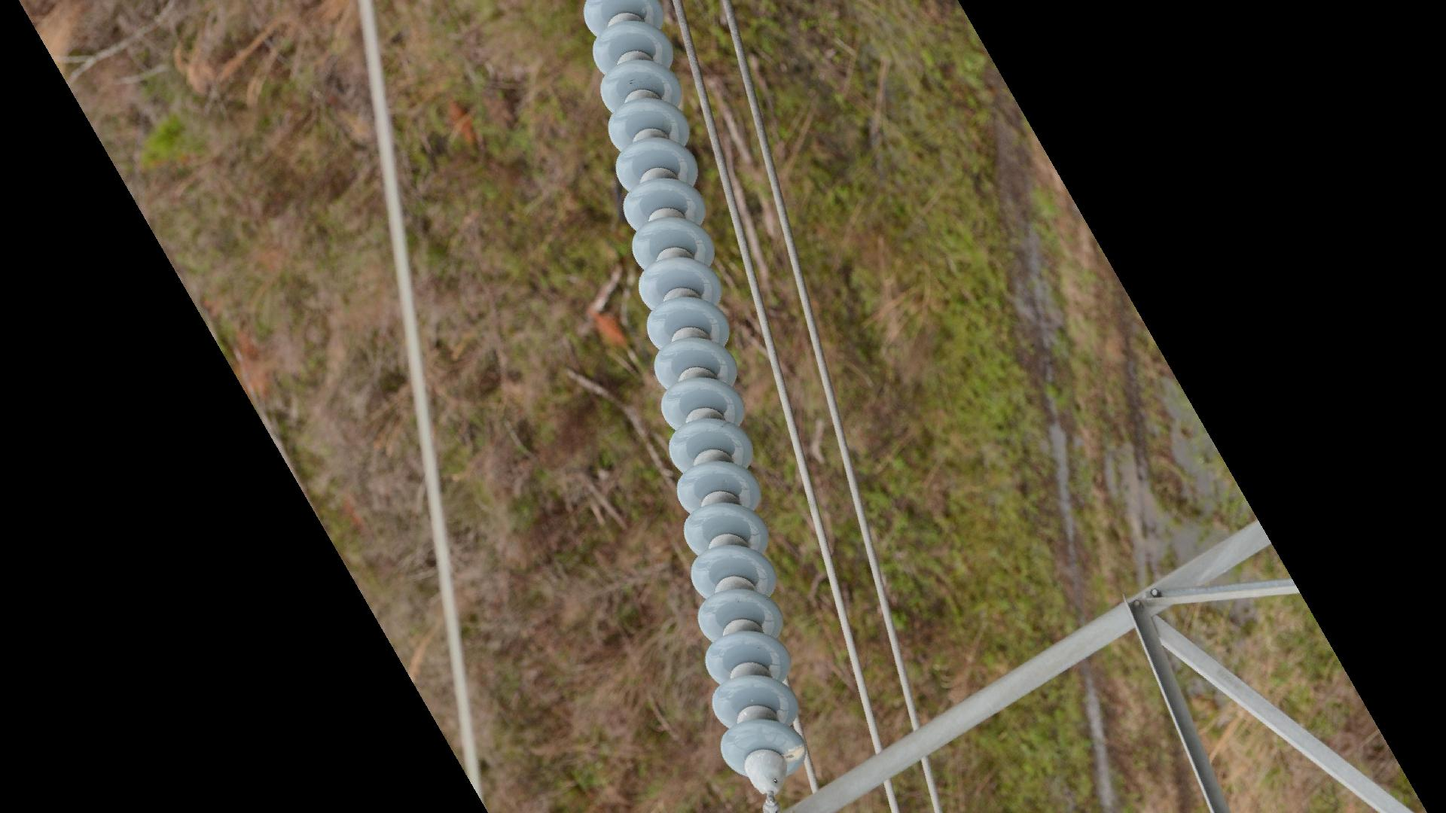insulator: (575, 1, 814, 784)
insulator_flashover: (782, 741, 807, 765)
